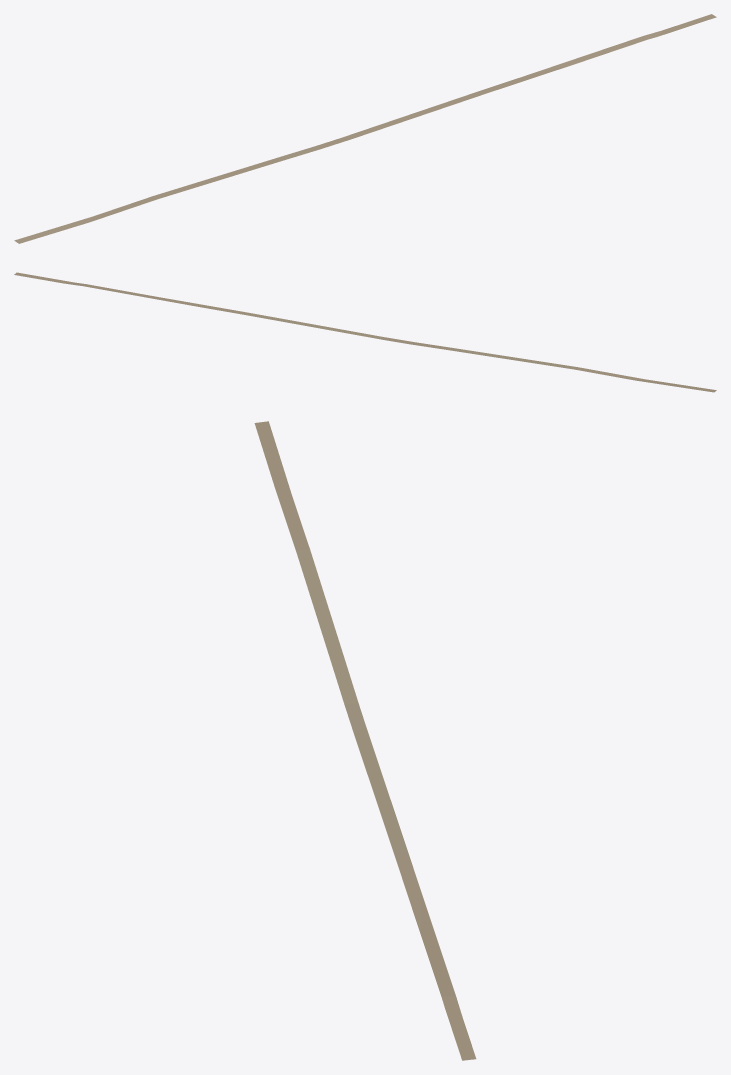
File: farm_16_10_track.glb
3 views of the same model, one above another, from view 1: azimuth 30°, elevation 25°; view 2: azimuth 150°, elevation 25°; view 3: azimuth 270°, elevation 25° (orthographic). The views are drawn at different scales.
Visible parts, largest first — view 1: geometry_0; view 2: geometry_0; view 3: geometry_0.
Boxes of the visible parts, box(x1,y1,x2,y2) form: geometry_0: box(14, 14, 716, 243); geometry_0: box(14, 272, 716, 392); geometry_0: box(254, 421, 476, 1060).
Bounding box in the file's own units: 342 × 2.27 × 50.66.
